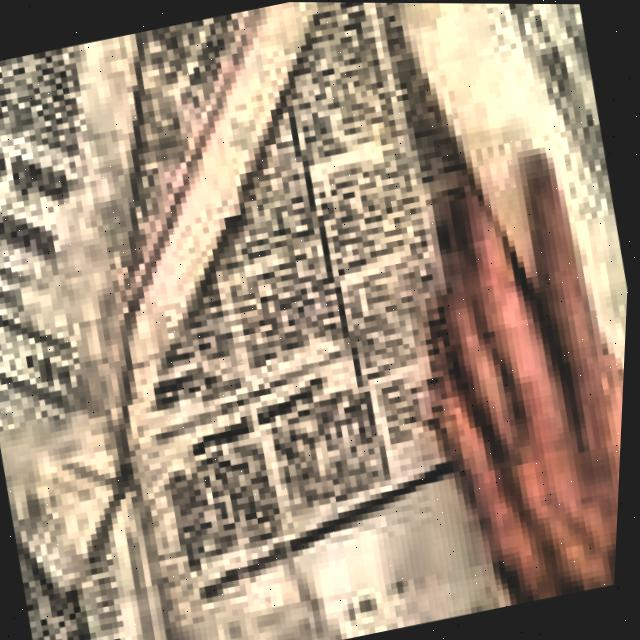paper: (0, 2, 630, 640)
